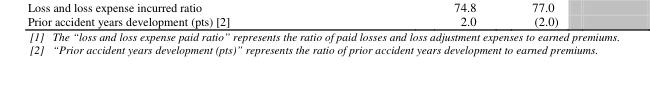table: (28, 29, 618, 55)
table column: (47, 29, 618, 55), (28, 29, 47, 55)
table row: (28, 29, 618, 42), (28, 42, 618, 55)
